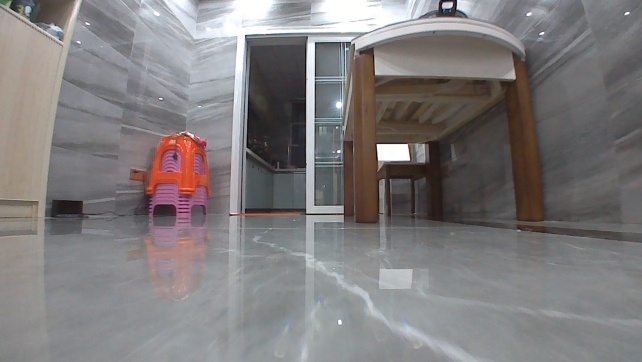cupboard: (243, 145, 307, 210)
